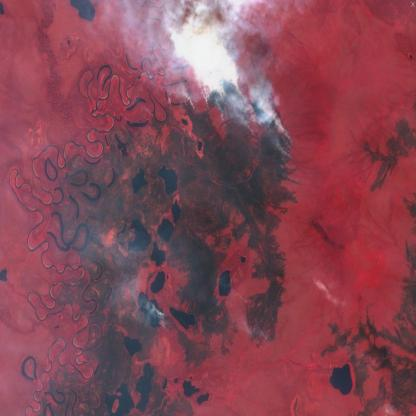fire: (156, 56, 298, 194), (230, 277, 286, 359), (147, 294, 187, 352)
